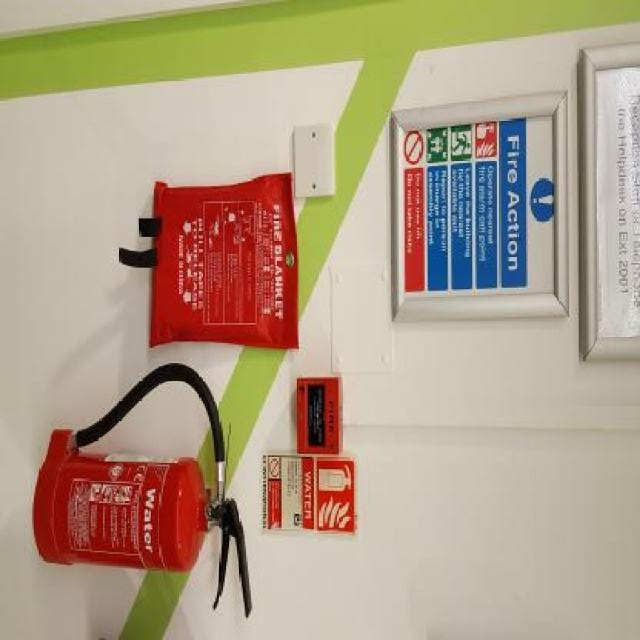fire extinguisher: (36, 363, 247, 609)
